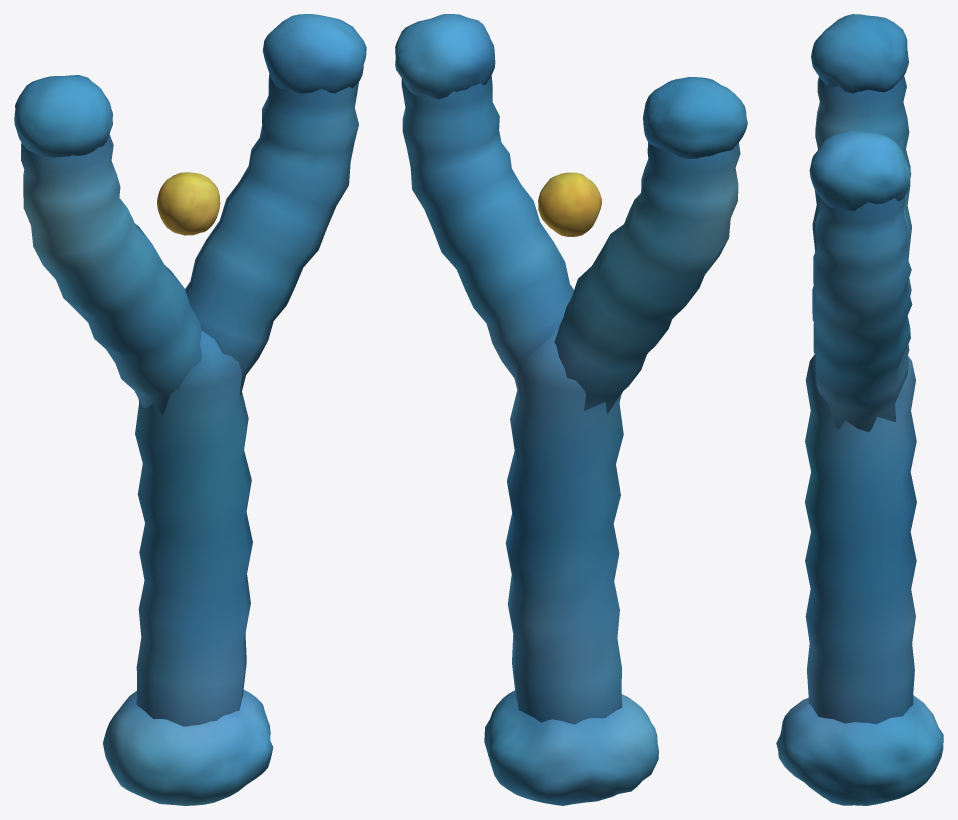
Rendered from receptor-protein.glb.
3 views of the same model, side by side, from view 1: azimuth 30°, elevation 25°; view 2: azimuth 150°, elevation 25°; view 3: azimuth 270°, elevation 25° (orthographic). The views are drawn at different scales.
Parts seen in each view (by area): view 1: receptor-protein-body, receptor-protein-pocket; view 2: receptor-protein-body, receptor-protein-pocket; view 3: receptor-protein-body.
Part boxes in pixels (x1=…): receptor-protein-body: x1=14, y1=14, x2=366, y2=805; receptor-protein-pocket: x1=157, y1=172, x2=220, y2=235; receptor-protein-body: x1=395, y1=14, x2=747, y2=805; receptor-protein-pocket: x1=538, y1=172, x2=601, y2=236; receptor-protein-body: x1=776, y1=14, x2=943, y2=805.
Size of what is drawn, in the model's own units: 0.9277 by 1.94 by 0.4116.
